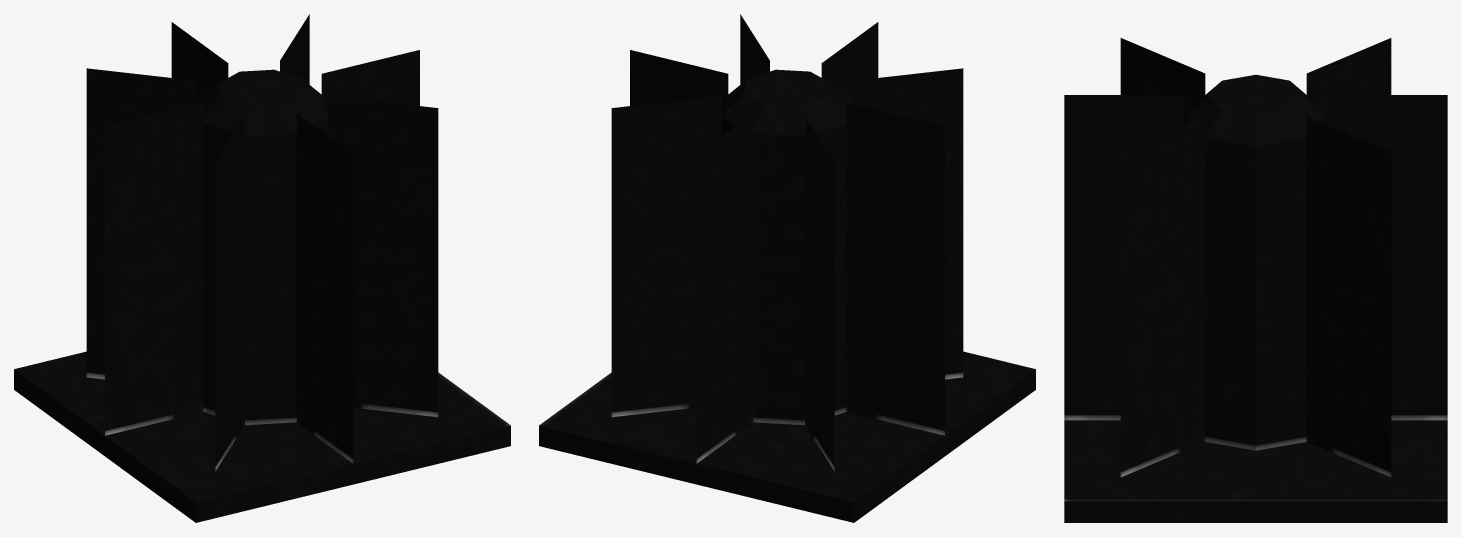
Rendered from rtg_mini.obj.
The picture shows the model from 3 angles, left to right: view 1: azimuth 30°, elevation 25°; view 2: azimuth 150°, elevation 25°; view 3: azimuth 270°, elevation 25°; orthographic projection. The views are drawn at different scales.
Parts seen in each view (by area): view 1: rtg_mini; view 2: rtg_mini; view 3: rtg_mini.
Boxes of the visible parts, x1,y1,x2,y2 form: rtg_mini: (14, 14, 510, 522); rtg_mini: (539, 14, 1035, 522); rtg_mini: (1064, 38, 1447, 522).
Size of the model in its own units: 1 by 1 by 1.
